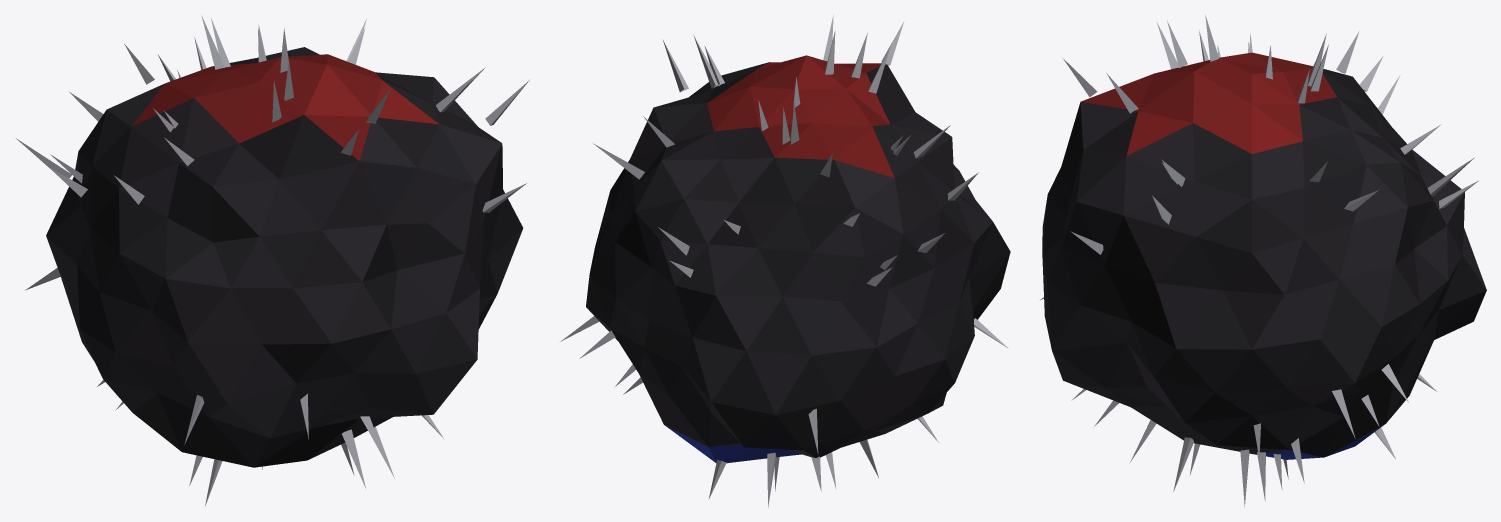
File: lodestone.glb
3 views of the same model, side by side, from view 1: azimuth 30°, elevation 25°; view 2: azimuth 150°, elevation 25°; view 3: azimuth 270°, elevation 25° (orthographic). The views are drawn at different scales.
Parts seen in each view (by area): view 1: Mesh; view 2: Mesh; view 3: Mesh.
Boxes of the visible parts, left/top/right/bottom form: Mesh: left=16, top=15, right=529, bottom=506; Mesh: left=560, top=14, right=1010, bottom=507; Mesh: left=1040, top=15, right=1486, bottom=507.
Size of the model in its own units: 0.7307 by 0.8304 by 0.7393.
